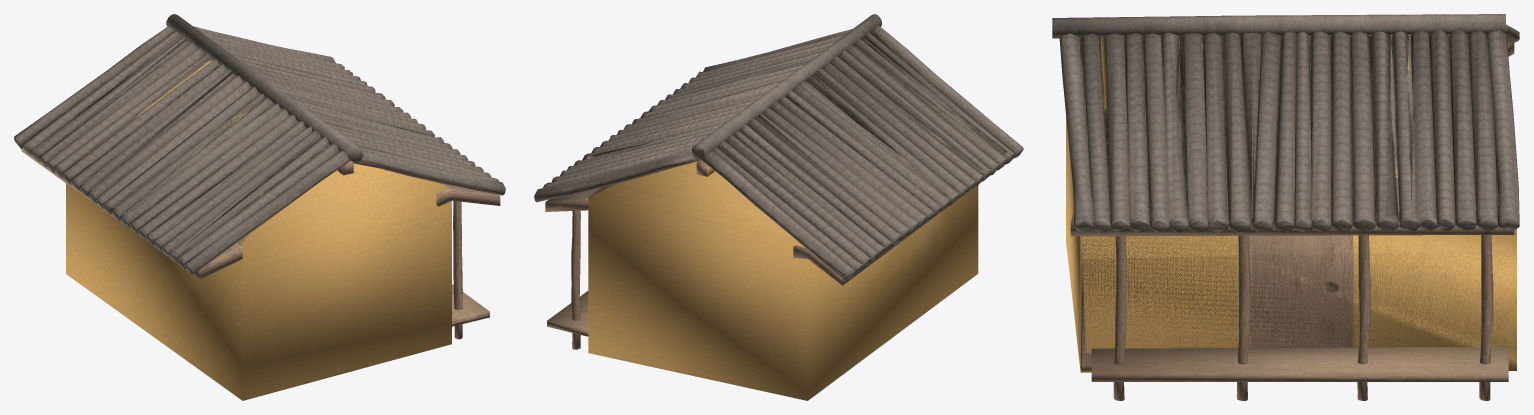
File: house_polish.fbx
3 views of the same model, side by side, from view 1: azimuth 30°, elevation 25°; view 2: azimuth 150°, elevation 25°; view 3: azimuth 270°, elevation 25° (orthographic). The views are drawn at different scales.
Visible parts, largest first — view 1: tripo_node_ddeba5b5; view 2: tripo_node_ddeba5b5; view 3: tripo_node_ddeba5b5.
Part boxes in pixels (x1,y1,x2,y2): tripo_node_ddeba5b5: (14, 14, 505, 400); tripo_node_ddeba5b5: (534, 14, 1023, 400); tripo_node_ddeba5b5: (1052, 14, 1519, 400).
Size of the model in its own units: 0.9863 by 0.7168 by 0.998.
